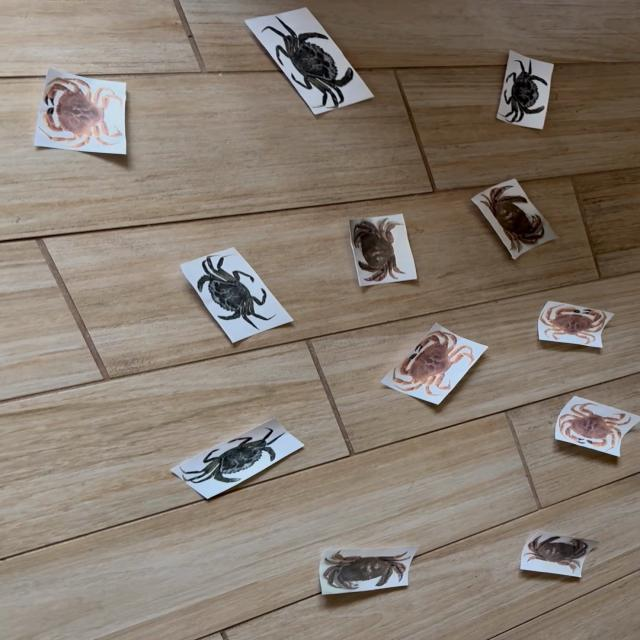egc: (182, 250, 292, 341), (172, 419, 302, 486), (276, 18, 354, 106), (499, 60, 546, 123)
